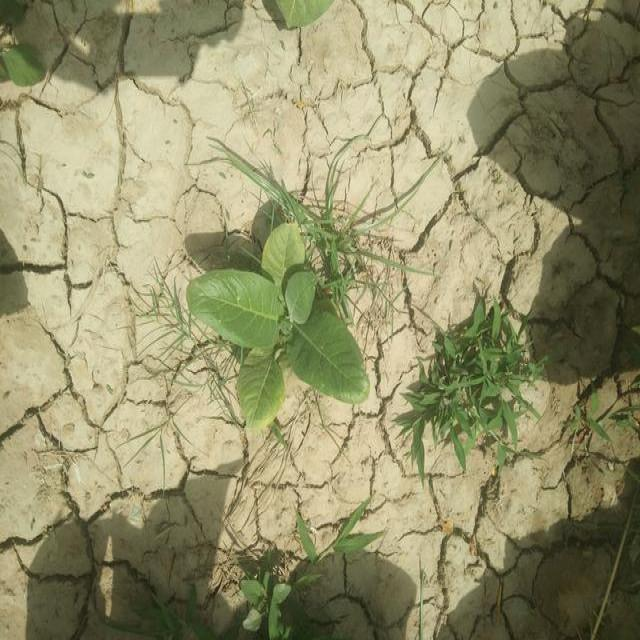crop: (186, 226, 368, 424)
